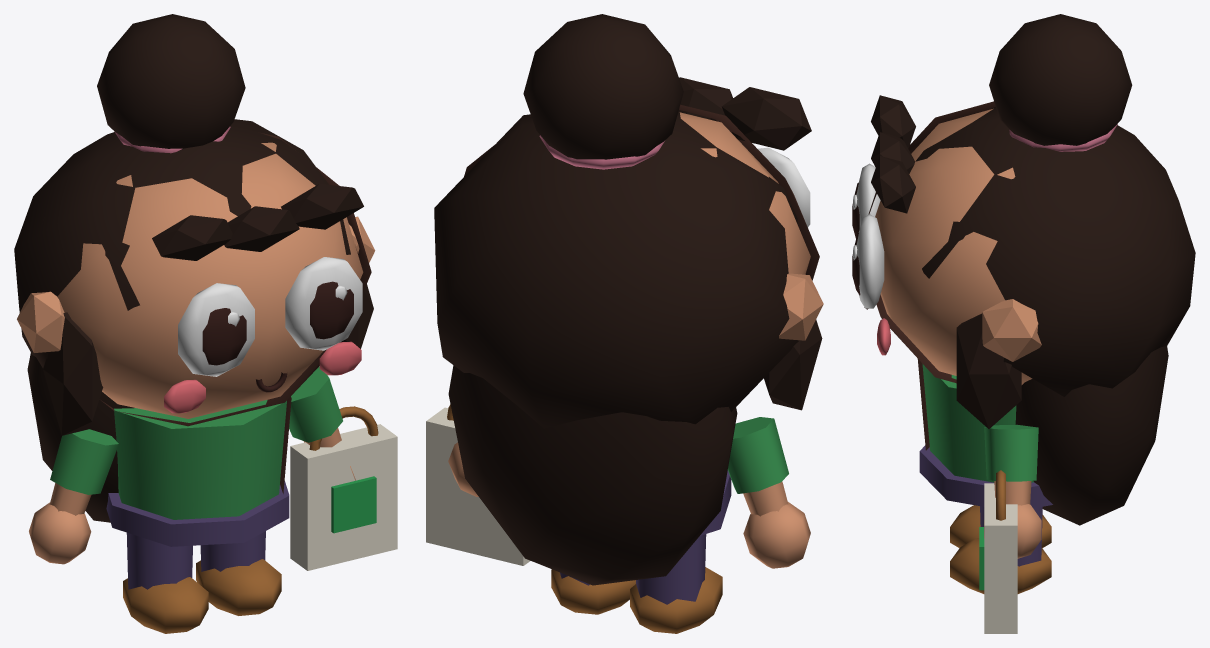
Rendered from npc_busari.glb.
3 views of the same model, side by side, from view 1: azimuth 30°, elevation 25°; view 2: azimuth 150°, elevation 25°; view 3: azimuth 270°, elevation 25° (orthographic). The views are drawn at different scales.
Visible parts, largest first — view 1: head_mesh, npc_busari_mesh, arm_L_mesh, leg_L_mesh, leg_R_mesh, arm_R_mesh; view 2: head_mesh, arm_L_mesh, npc_busari_mesh, leg_L_mesh, leg_R_mesh, arm_R_mesh; view 3: head_mesh, npc_busari_mesh, arm_R_mesh, leg_R_mesh, leg_L_mesh.
Part boxes in pixels (x1=…): head_mesh: x1=14, y1=14, x2=375, y2=522; npc_busari_mesh: x1=106, y1=396, x2=397, y2=570; arm_L_mesh: x1=29, y1=429, x2=118, y2=564; leg_L_mesh: x1=123, y1=532, x2=208, y2=633; leg_R_mesh: x1=196, y1=531, x2=281, y2=615; arm_R_mesh: x1=289, y1=366, x2=355, y2=480; head_mesh: x1=434, y1=14, x2=823, y2=585; arm_L_mesh: x1=727, y1=417, x2=810, y2=568; npc_busari_mesh: x1=426, y1=404, x2=731, y2=565; leg_L_mesh: x1=630, y1=534, x2=722, y2=633; leg_R_mesh: x1=551, y1=569, x2=635, y2=614; arm_R_mesh: x1=448, y1=442, x2=478, y2=496; head_mesh: x1=852, y1=14, x2=1195, y2=525; npc_busari_mesh: x1=917, y1=359, x2=1052, y2=633; arm_R_mesh: x1=984, y1=424, x2=1041, y2=558; leg_R_mesh: x1=950, y1=506, x2=1051, y2=593; leg_L_mesh: x1=950, y1=505, x2=1051, y2=547.
Size of the model in its own units: 1.1 by 1.7 by 0.955.
